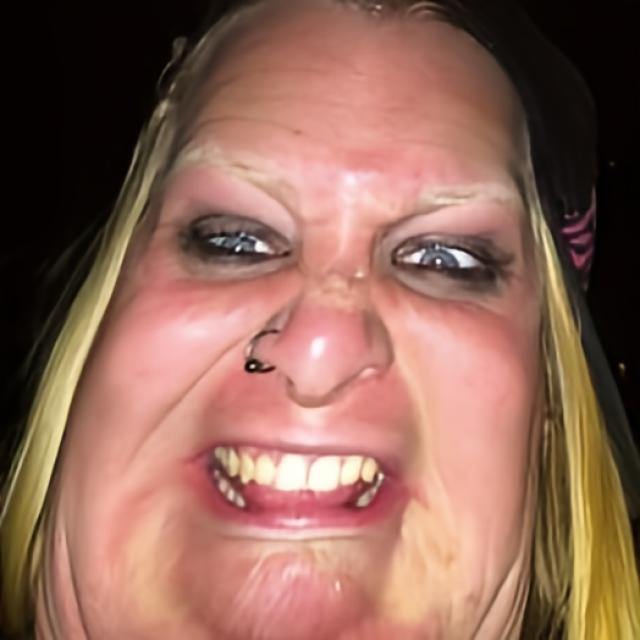disgust: (35, 0, 548, 640)
